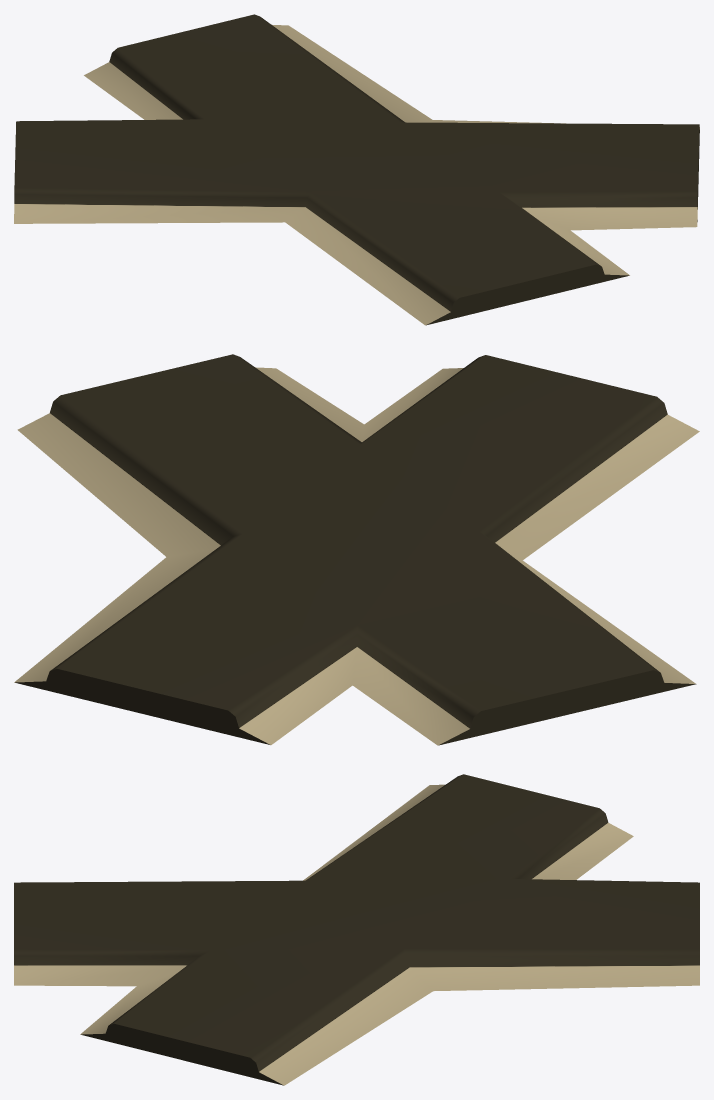
Rendered from Road_XAngle.fbx.
3 renders of one model, top to bottom at view 1: azimuth 30°, elevation 25°; view 2: azimuth 150°, elevation 25°; view 3: azimuth 270°, elevation 25°, orthographic. The views are drawn at different scales.
Parts seen in each view (by area): view 1: Road_XAngle; view 2: Road_XAngle; view 3: Road_XAngle.
Part boxes in pixels (x1,y1,x2,y2): Road_XAngle: (14,14,699,325); Road_XAngle: (14,354,699,745); Road_XAngle: (14,774,699,1085).
Size of the model in its own units: 0.898 by 0.0271 by 0.866.
